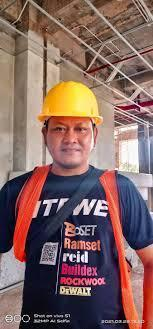helmet: (37, 81, 103, 124)
